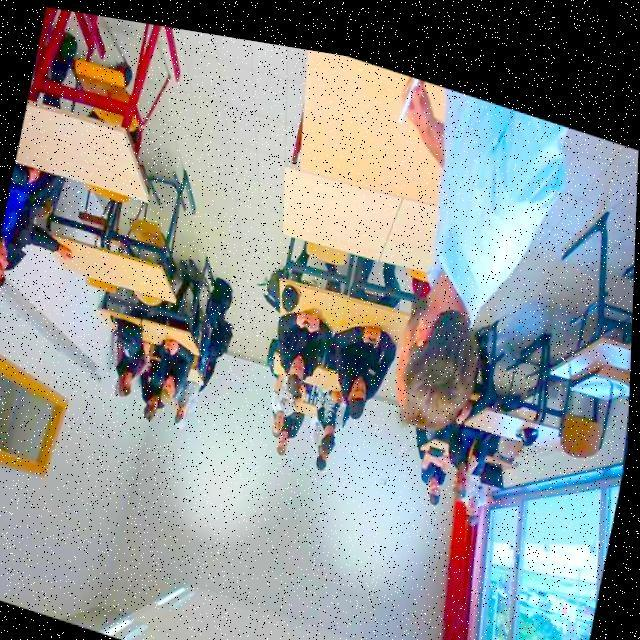phone_use: (327, 324, 394, 423), (267, 310, 330, 396), (304, 380, 364, 455), (154, 338, 193, 407)
